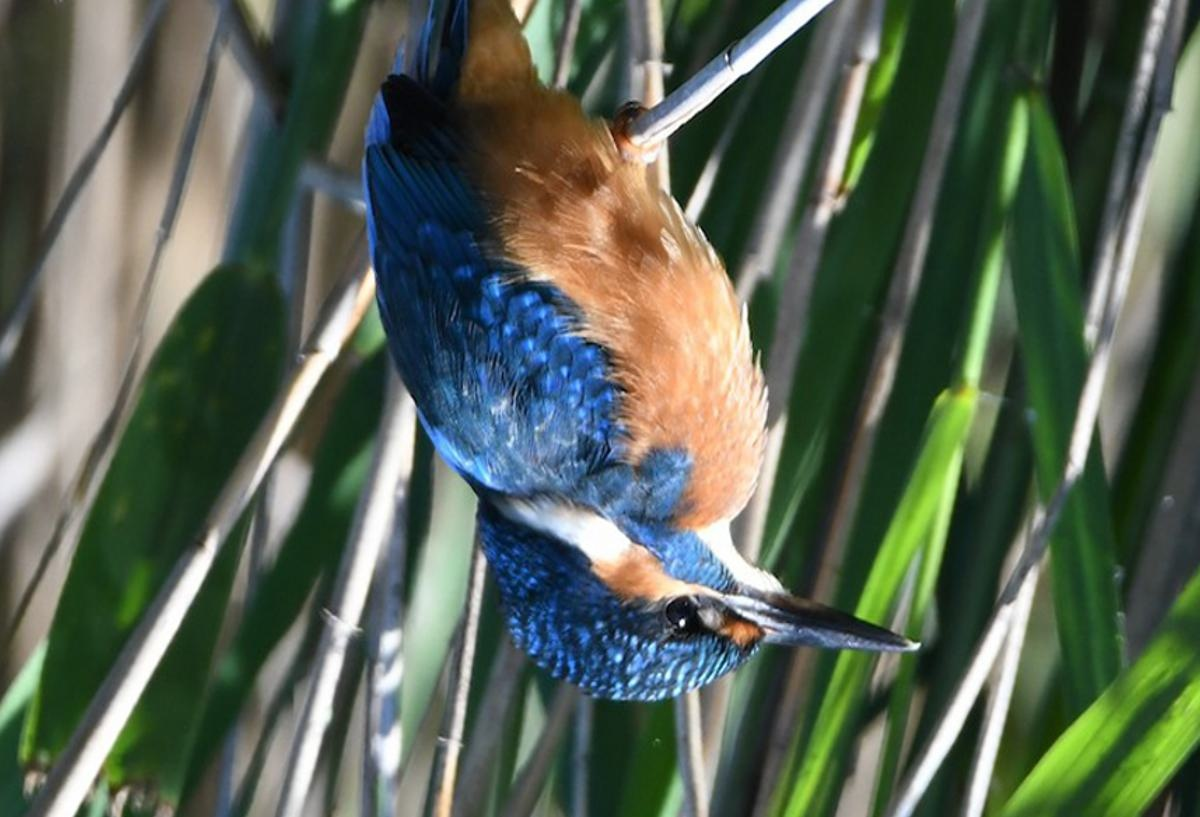kingfisher: (329, 12, 936, 714)
